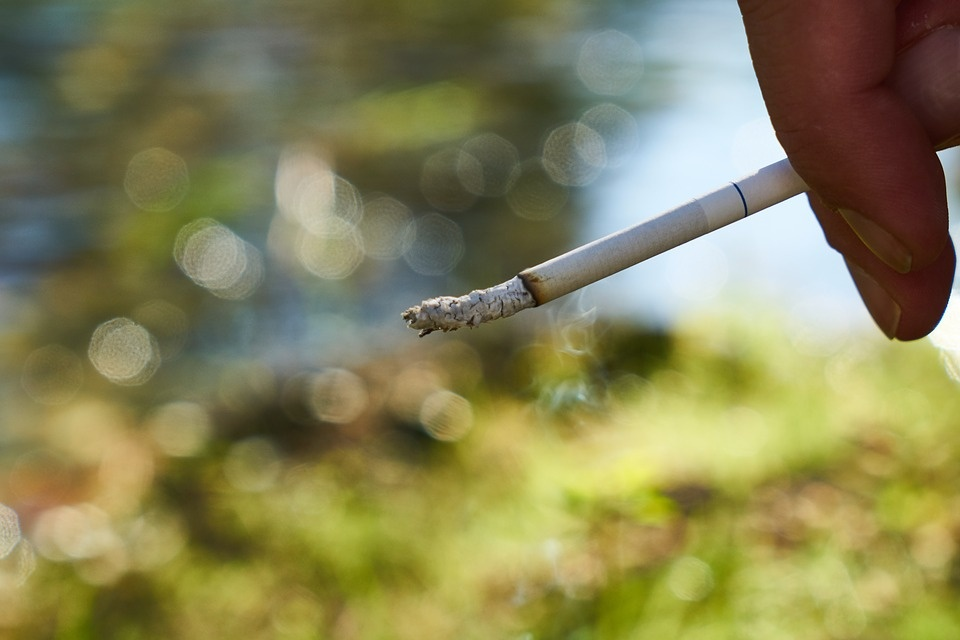sigaretta: (400, 137, 867, 347)
